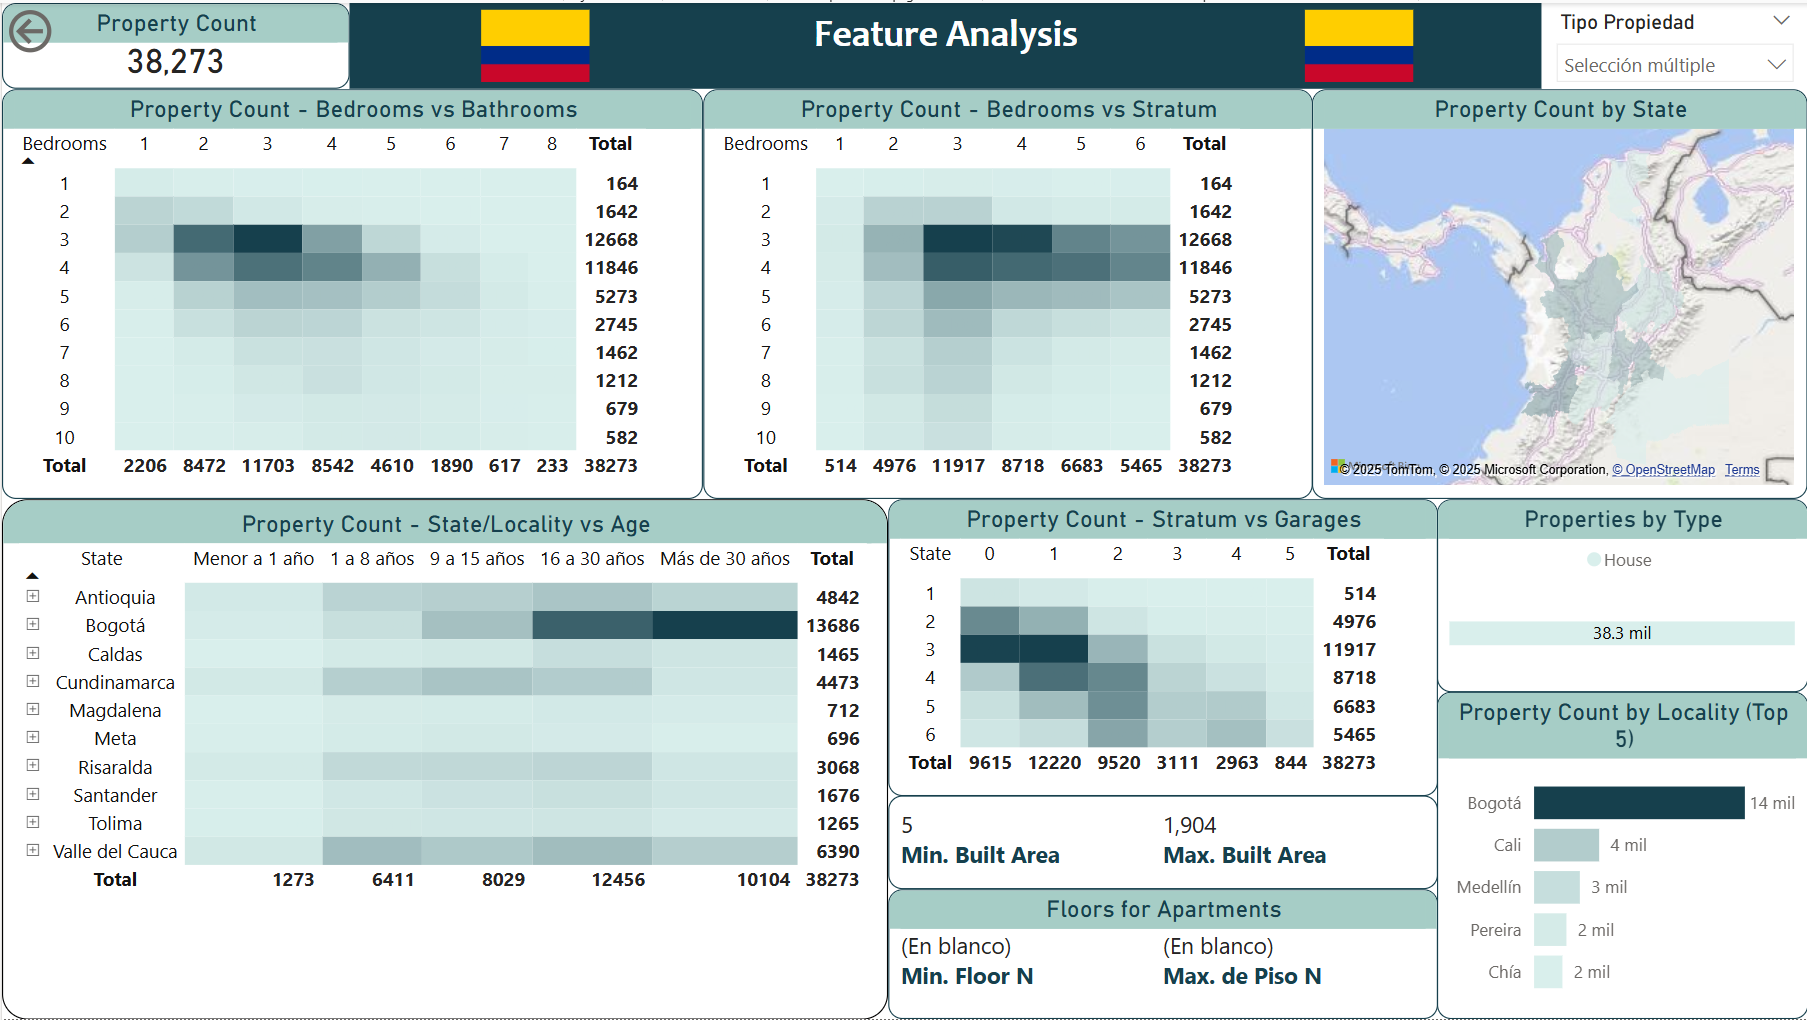

The page's visual inventory and layout, read from the dashboard file:
{"tool":"powerbi","page":{"name":"Análisis de Características","canvas":[1280,720],"ordinal":0},"visuals":[{"type":"pivotTable","title":"Cantidad de propiedades - Habitaciones vs Baños","fields":{"Columns":["Props.Banos"],"Values":["CountNonNull(Props.Tipo Propiedad)"],"Rows":["Props.Habitaciones"]},"box":[0,61.1,497,290.6],"z":0},{"type":"pivotTable","title":"Cantidad de propiedades - Estrato vs Garages","fields":{"Columns":["Props.Garages"],"Values":["CountNonNull(Props.Tipo Propiedad)"],"Rows":["Props.Estrato"]},"box":[628.2,351.5,389.2,210.2],"z":1000},{"type":"slicer","fields":{"Values":["Props.Tipo Propiedad"]},"box":[1091.5,0,188.7,61.1],"z":2000},{"type":"pivotTable","title":"Cantidad de propiedades - Estado/Localidad vs Antiguedad","fields":{"Values":["CountNonNull(Props.Tipo Propiedad)"],"Rows":["Props.Estado","Props.Localidad"],"Columns":["Antiguedad Exp.Antiguedad"]},"box":[0,351.5,628.2,368.7],"z":3000},{"type":"card","title":"Cantidad de Propiedades","fields":{"Values":["CountNonNull(Props.Tipo Propiedad)"]},"box":[0,0,246.3,61.1],"z":4000},{"type":"textbox","box":[246.3,0,845.2,61.1],"z":5000},{"type":"pivotTable","title":"Cantidad de propiedades - Habitaciones vs Estrato","fields":{"Values":["CountNonNull(Props.Tipo Propiedad)"],"Rows":["Props.Habitaciones"],"Columns":["Props.Estrato"]},"box":[496.8,60.8,431.9,290.7],"z":6000},{"type":"image","box":[892.6,0,138,60.8],"z":7000},{"type":"image","box":[308.8,0,137.1,60.8],"z":8000},{"type":"filledMap","title":"Cantidad de propiedades por Estado","fields":{"Category":["Props.Estado"]},"box":[928.7,60.8,351.5,290.7],"z":9000},{"type":"actionButton","box":[0,0,100,40],"z":10000},{"type":"hundredPercentStackedBarChart","title":"Propiedades por Tipo","fields":{"Y":["CountNonNull(Props.Tipo Propiedad)"],"Series":["Props.Tipo Propiedad"]},"box":[1017.1,351.7,263.1,136.4],"z":11000},{"type":"multiRowCard","title":"Propiedades por Tipo","fields":{"Values":["Min(Props.Area Construida)","Max(Props.Area Construida)1"]},"box":[628.2,561.7,389.2,66.5],"z":12000},{"type":"multiRowCard","title":"Pisos para Departamentos","fields":{"Values":["Min(Props.Piso N)","Max(Props.Piso N)1"]},"box":[628.2,628.2,389.2,92],"z":13000},{"type":"barChart","title":"Cant. Propiedades por Localidad (Top 5)","fields":{"Y":["CountNonNull(Props.Tipo Propiedad)"],"Category":["Props.Localidad"]},"box":[1017.1,488.2,263.1,232.1],"z":14000}]}

Visuals, with their boxes in screenshot pixels (x1, y1, x2, y2), scaled from the page's 1280x720 canvas onto the 1807x1020 screenshot:
"Cantidad de propiedades - Habitaciones vs Baños" pivotTable: select_region(0, 87, 702, 498)
"Cantidad de propiedades - Estrato vs Garages" pivotTable: select_region(887, 498, 1436, 796)
slicer - Props.Tipo Propiedad: select_region(1541, 0, 1806, 87)
"Cantidad de propiedades - Estado/Localidad vs Antiguedad" pivotTable: select_region(0, 498, 887, 1019)
"Cantidad de Propiedades" card: select_region(0, 0, 348, 87)
textbox: select_region(348, 0, 1541, 87)
"Cantidad de propiedades - Habitaciones vs Estrato" pivotTable: select_region(701, 86, 1311, 498)
image: select_region(1260, 0, 1455, 86)
image: select_region(436, 0, 629, 86)
"Cantidad de propiedades por Estado" filledMap: select_region(1311, 86, 1806, 498)
actionButton: select_region(0, 0, 141, 57)
"Propiedades por Tipo" hundredPercentStackedBarChart: select_region(1436, 498, 1806, 691)
"Propiedades por Tipo" multiRowCard: select_region(887, 796, 1436, 890)
"Pisos para Departamentos" multiRowCard: select_region(887, 890, 1436, 1019)
"Cant. Propiedades por Localidad (Top 5)" barChart: select_region(1436, 692, 1806, 1019)
